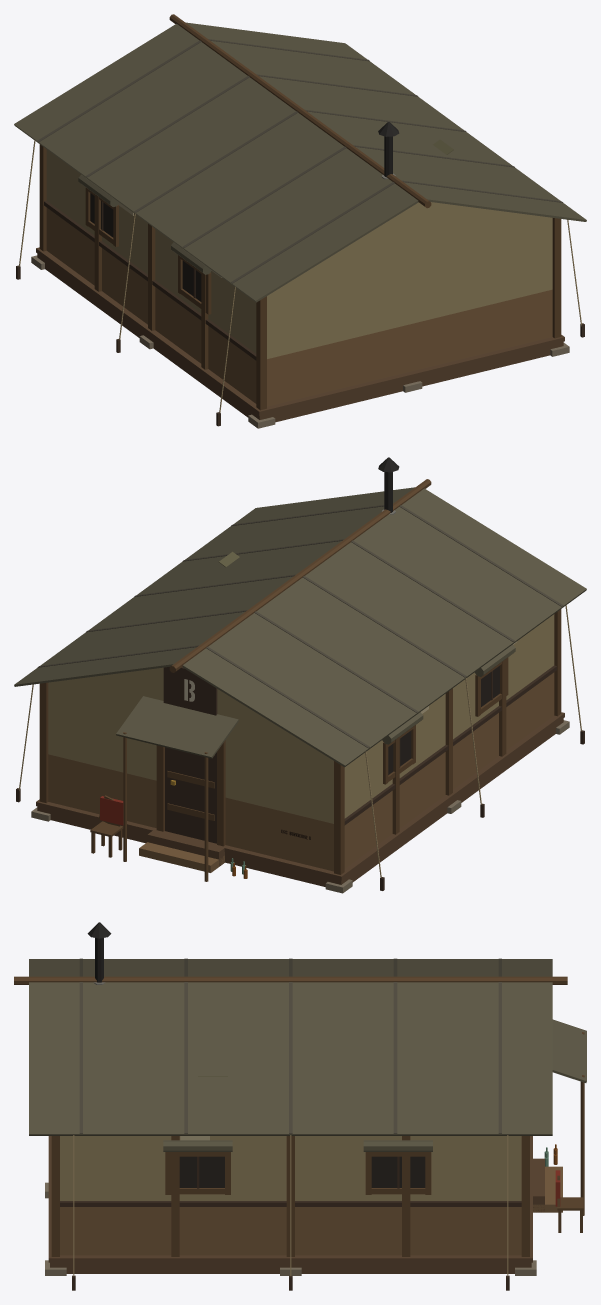
Rendered from BunkhouseB.glb.
The picture shows the model from 3 angles, top to bottom: view 1: azimuth 30°, elevation 25°; view 2: azimuth 150°, elevation 25°; view 3: azimuth 270°, elevation 25°; orthographic projection. The views are drawn at different scales.
Visible parts, largest first — view 1: BunkhouseB; view 2: BunkhouseB; view 3: BunkhouseB.
Part boxes in pixels (x1=…): BunkhouseB: x1=14, y1=14, x2=586, y2=428; BunkhouseB: x1=14, y1=457, x2=586, y2=893; BunkhouseB: x1=14, y1=922, x2=586, y2=1290.
Bounding box in the file's own units: 7.68 × 5 × 9.58.
